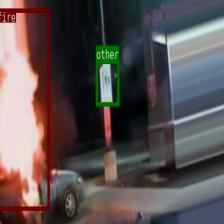fire: (0, 7, 49, 210)
